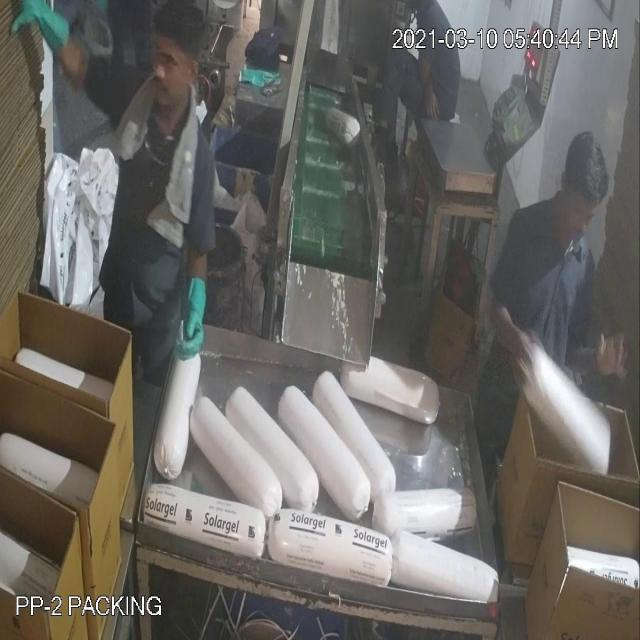No_Gloves: (40, 31, 601, 354)
